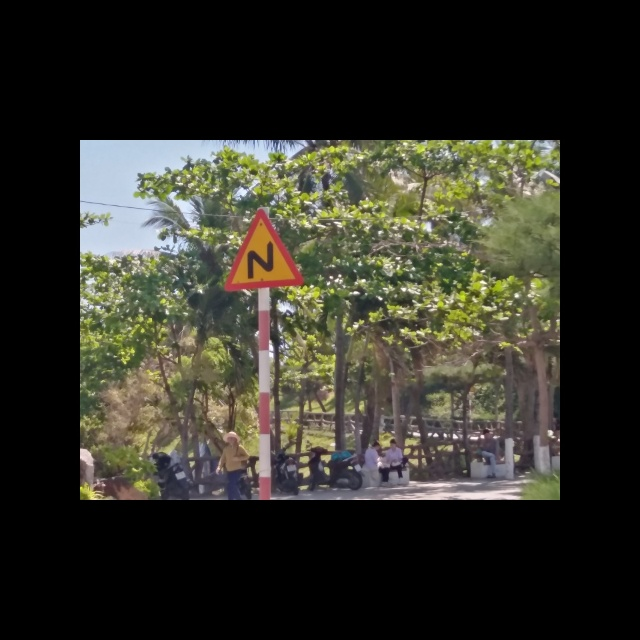Ngoặt nguy hiểm liên tiếp bên phải: (222, 206, 305, 292)
